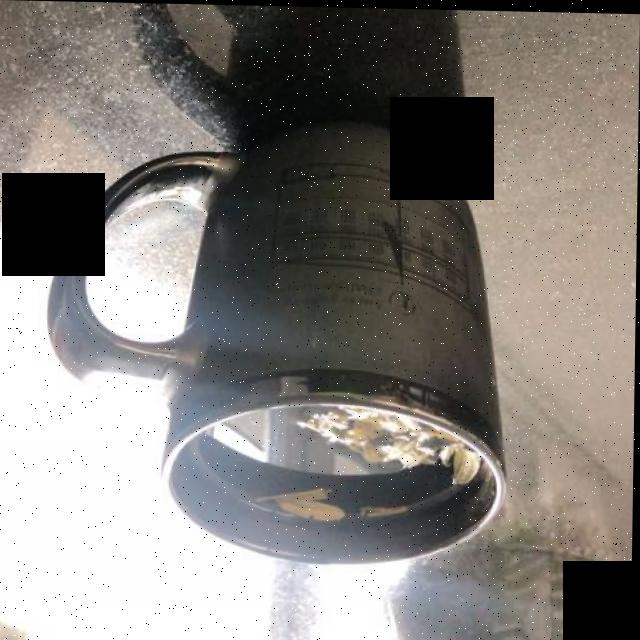tea-green: (204, 388, 451, 528)
